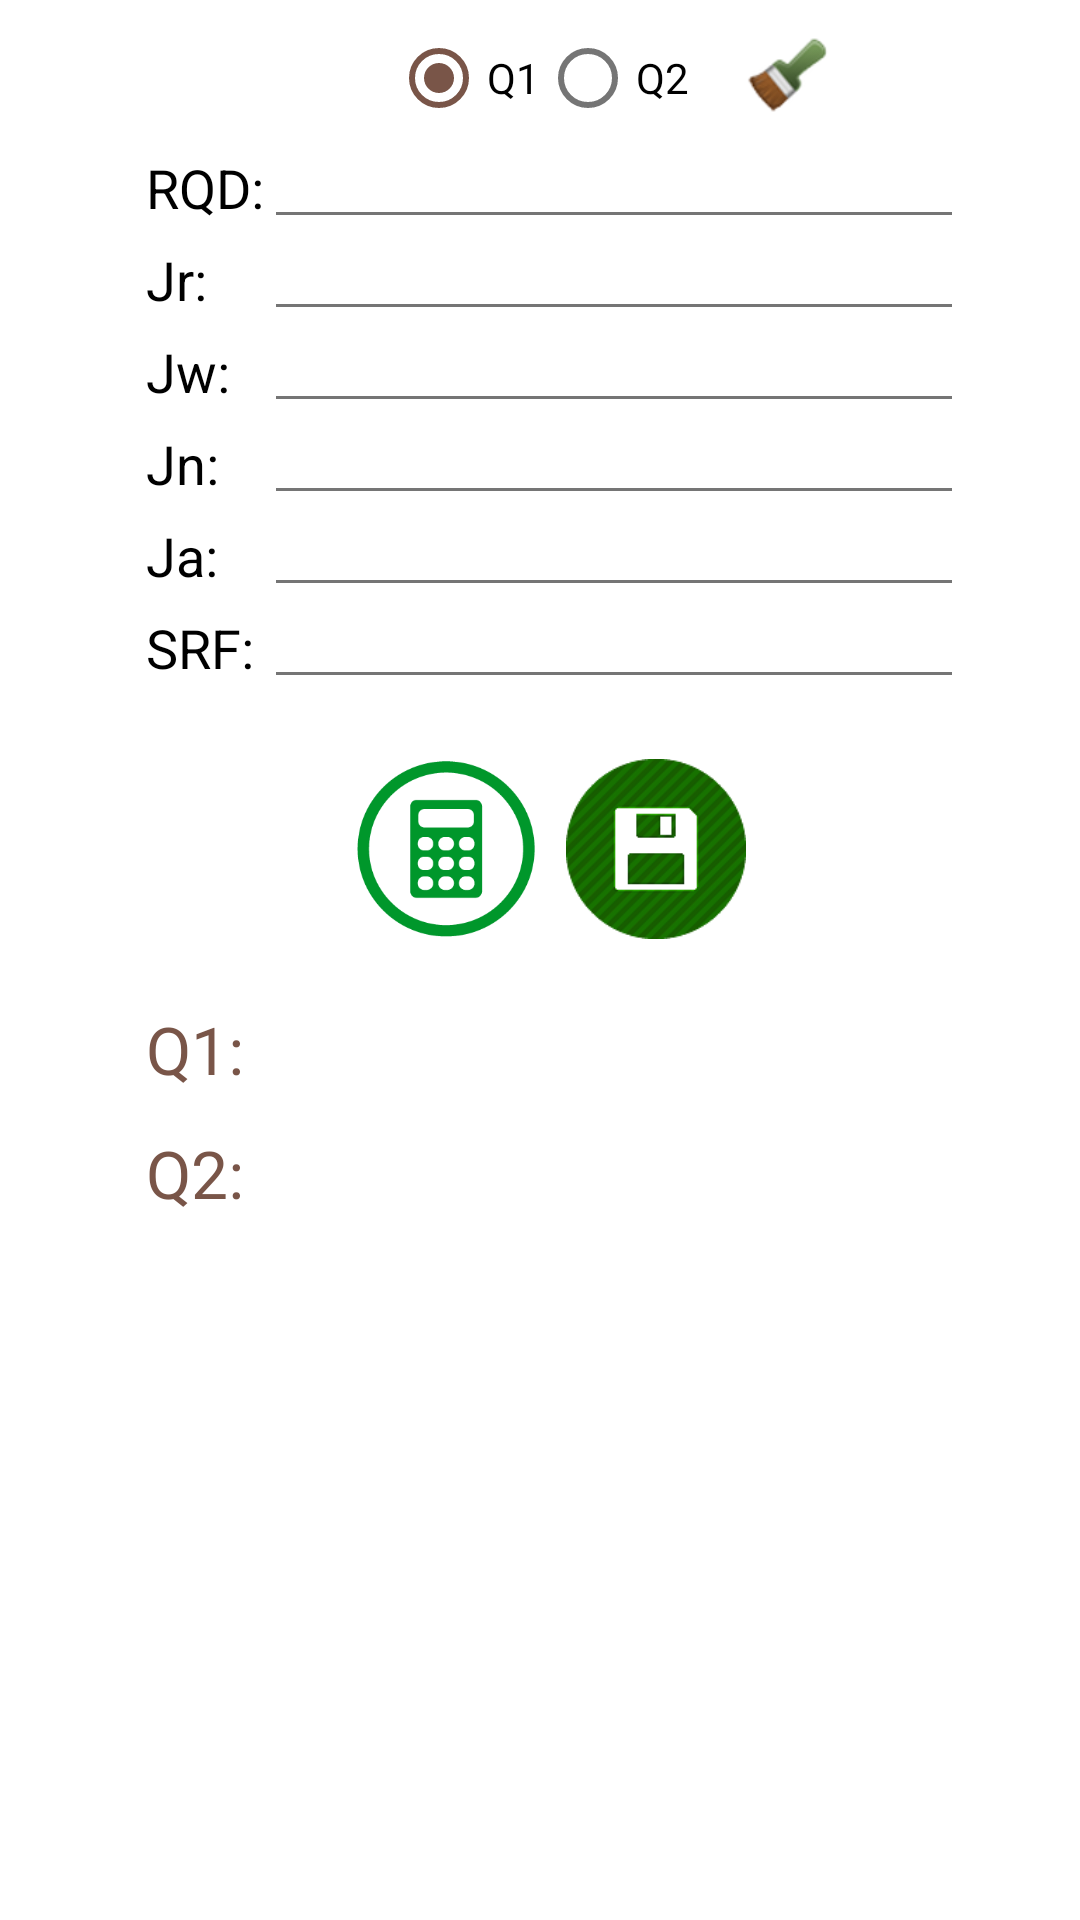

Icon click points for this 1080px×1920px phone screenshot, format point (x, y):
calcular: point (446, 849)
limpiar: point (787, 75)
save: point (656, 849)
